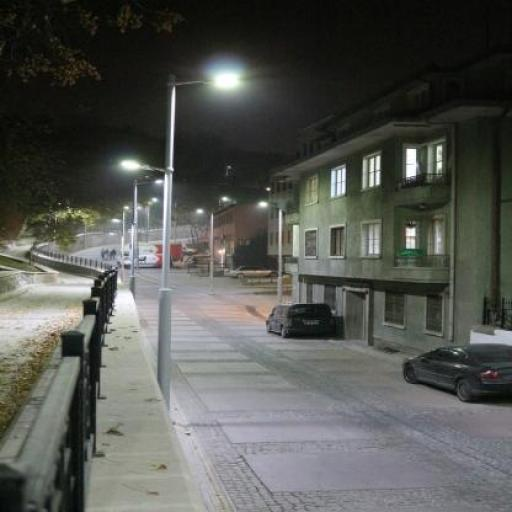street light: (156, 71, 243, 429), (120, 157, 176, 338), (130, 180, 164, 306), (258, 202, 286, 312), (196, 209, 219, 294)
